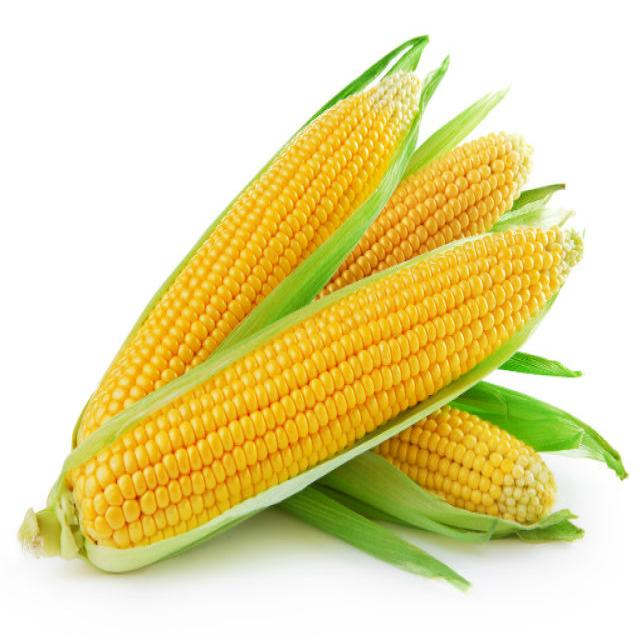Corn ear: (338, 228, 572, 418), (74, 407, 332, 565), (76, 206, 282, 402), (247, 70, 410, 248), (386, 124, 544, 248), (393, 413, 554, 524)
